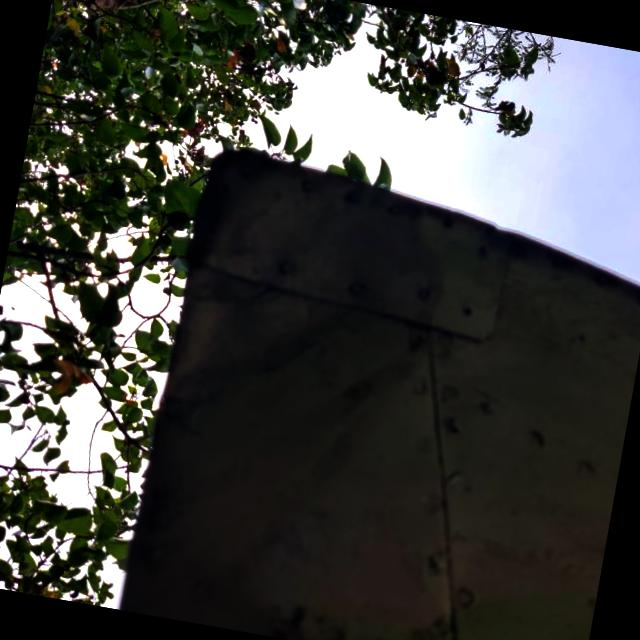dent: (134, 233, 376, 465)
